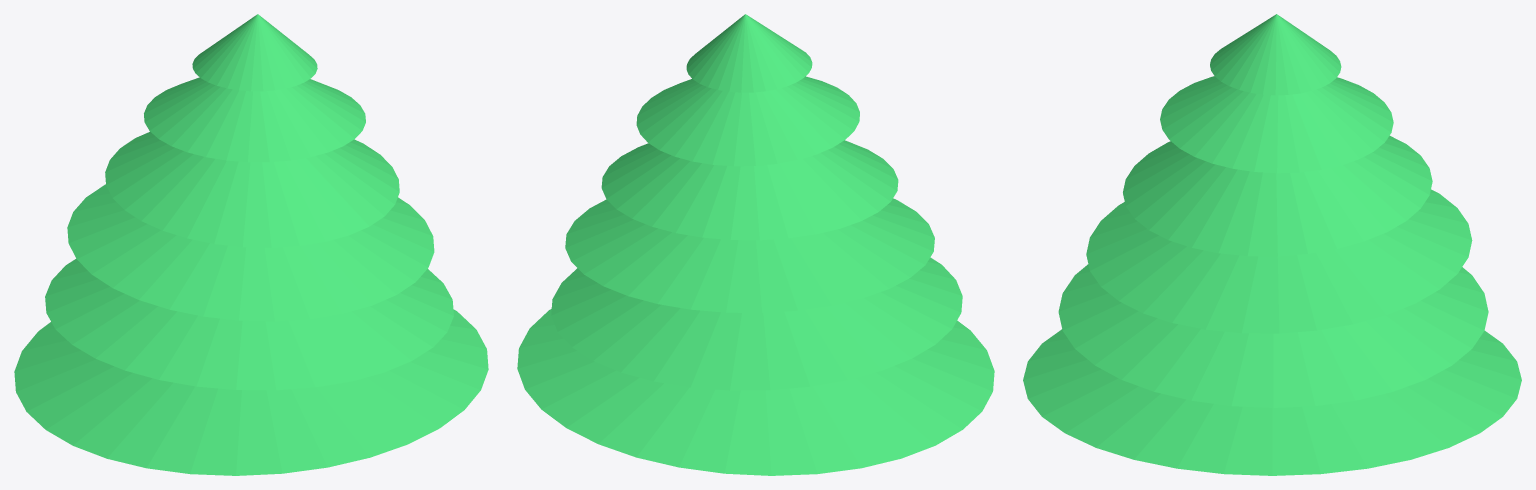
File: Tree.fbx
3 views of the same model, side by side, from view 1: azimuth 30°, elevation 25°; view 2: azimuth 150°, elevation 25°; view 3: azimuth 270°, elevation 25° (orthographic). The views are drawn at different scales.
Parts seen in each view (by area): view 1: Cone.005; view 2: Cone.005; view 3: Cone.005.
Part boxes in pixels (<box>): Cone.005: <box>14,14,488,475</box>; Cone.005: <box>517,14,994,475</box>; Cone.005: <box>1023,14,1521,475</box>.
Bounding box in the file's own units: 611 × 619 × 612.
